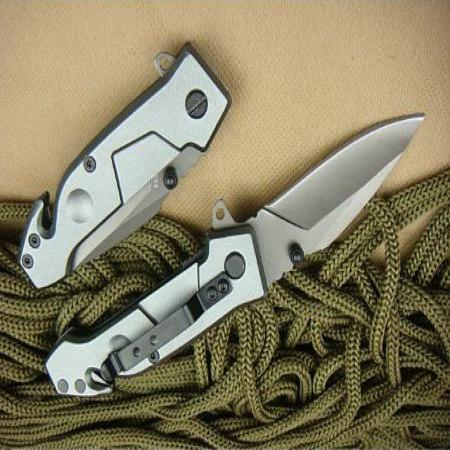long weapon: (233, 112, 432, 294)
